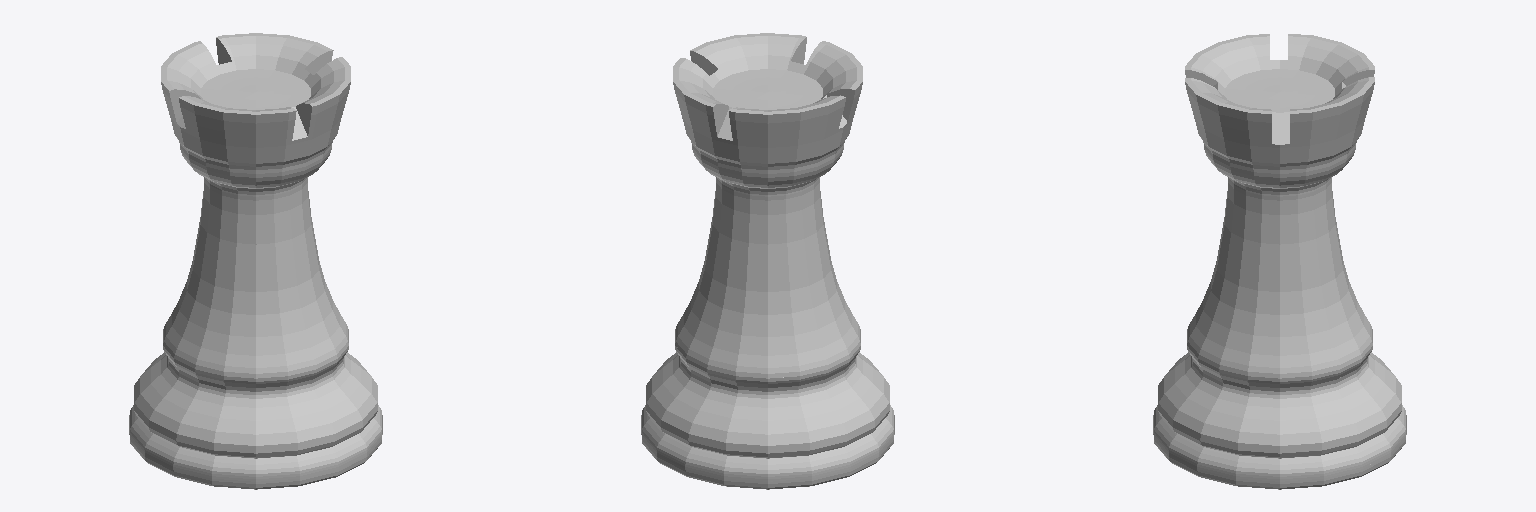
The model's file is rook_w_2.obj.
The picture shows the model from 3 angles: view 1: azimuth 30°, elevation 25°; view 2: azimuth 150°, elevation 25°; view 3: azimuth 270°, elevation 25°; orthographic projection.
Parts seen in each view (by area): view 1: rook_w_2; view 2: rook_w_2; view 3: rook_w_2.
Part boxes in pixels (left/top/right/bottom): rook_w_2: left=129, top=33, right=382, bottom=489; rook_w_2: left=641, top=33, right=894, bottom=489; rook_w_2: left=1153, top=34, right=1406, bottom=489.
Bounding box in the file's own units: 3.32 × 5.2 × 3.27.